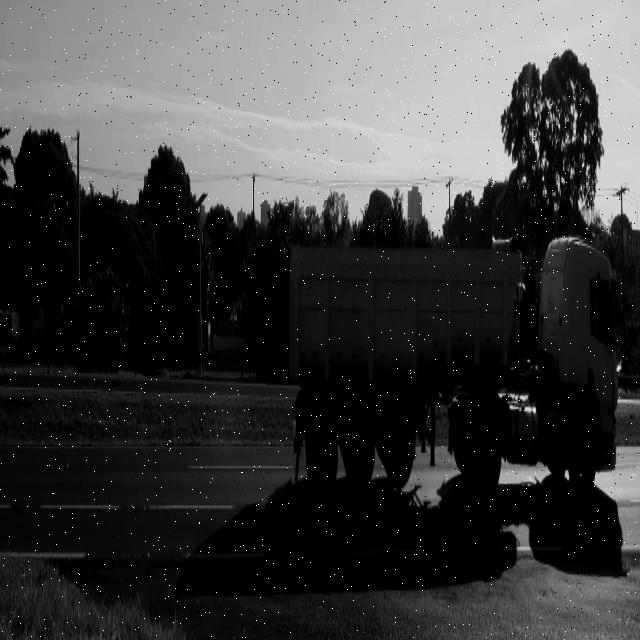-axle: (342, 402, 378, 497), (467, 401, 501, 496), (383, 405, 418, 494), (306, 412, 340, 497)
